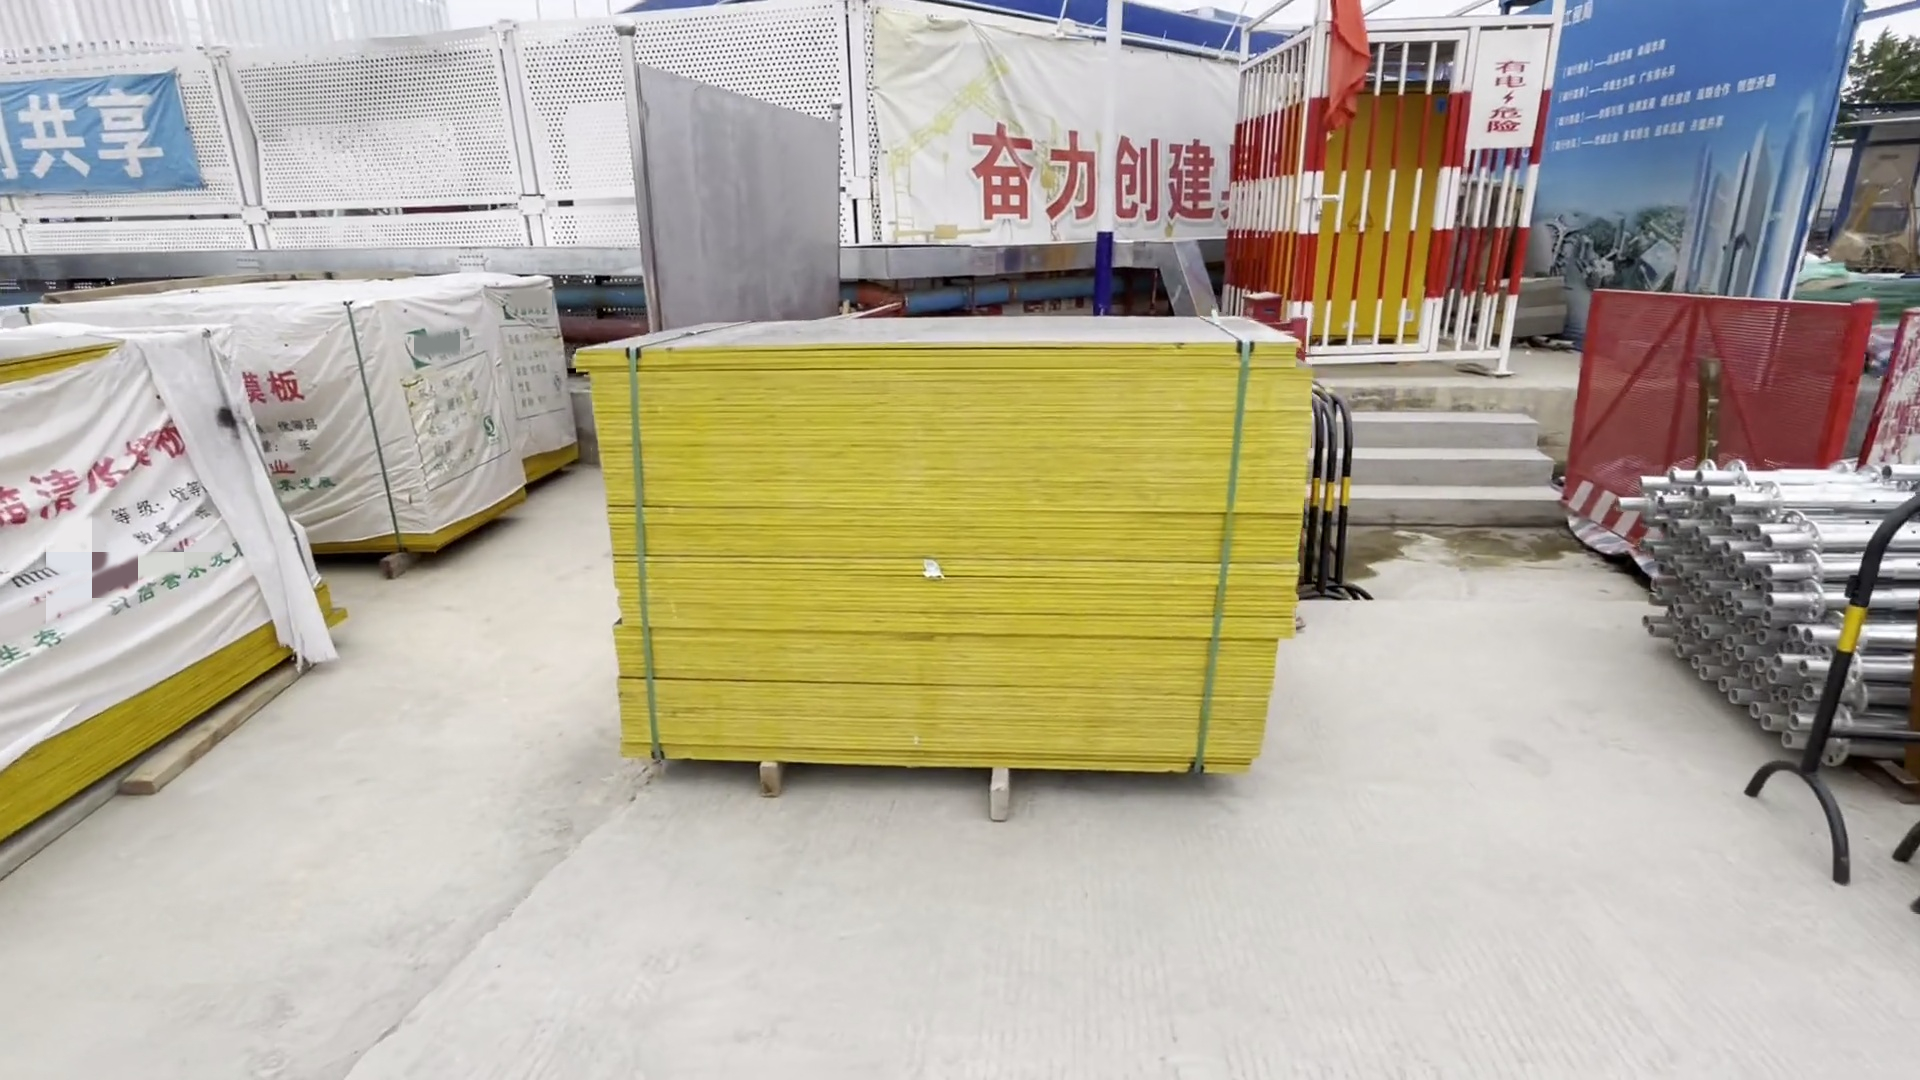board: (600, 307, 1305, 849), (1, 369, 367, 886), (1, 256, 584, 556)
ebox: (1307, 92, 1455, 345)
fence: (1567, 287, 1846, 476)
scaffold: (1629, 465, 1920, 771)
slogan: (969, 116, 1218, 241), (1, 69, 175, 190)
